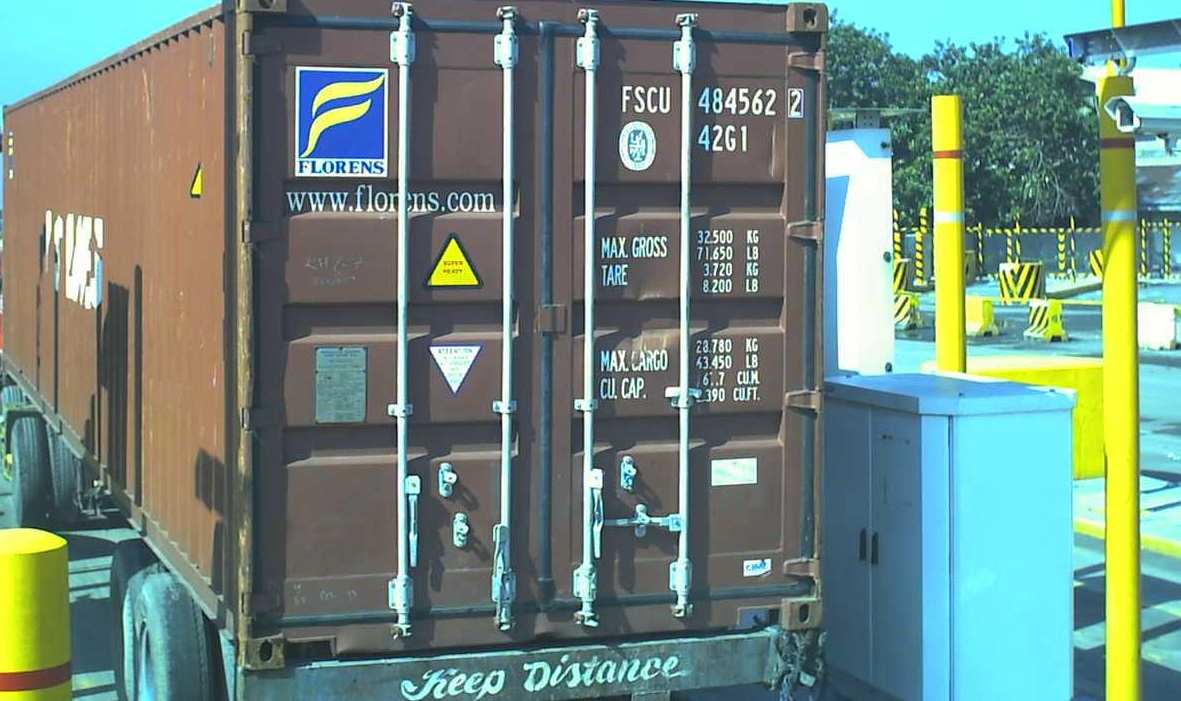container_door: (234, 2, 824, 662)
